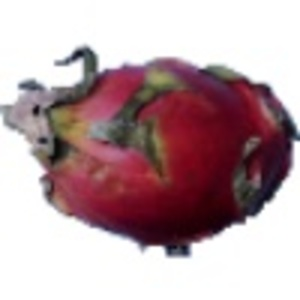pitaia: (1, 45, 300, 260)
